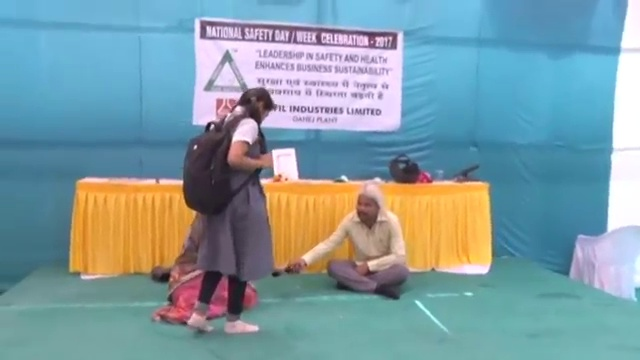helmet_off: (237, 87, 274, 123), (355, 193, 380, 224)
person: (178, 85, 276, 338), (287, 191, 410, 299)
